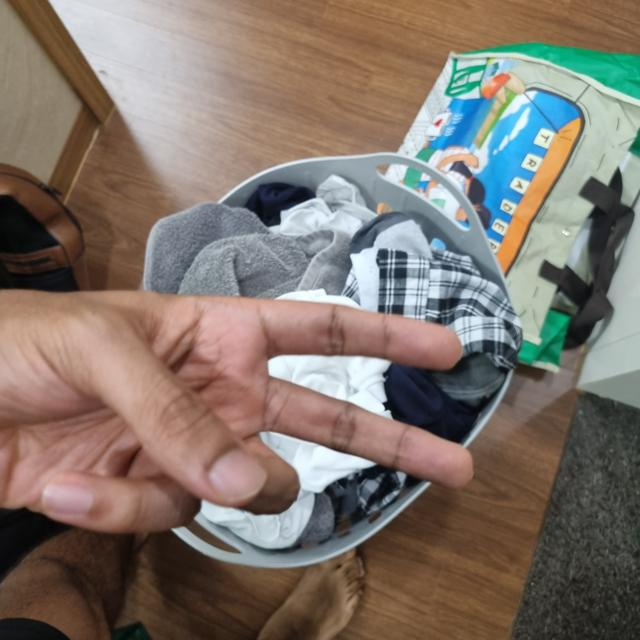Scissors: (0, 291, 469, 539)
